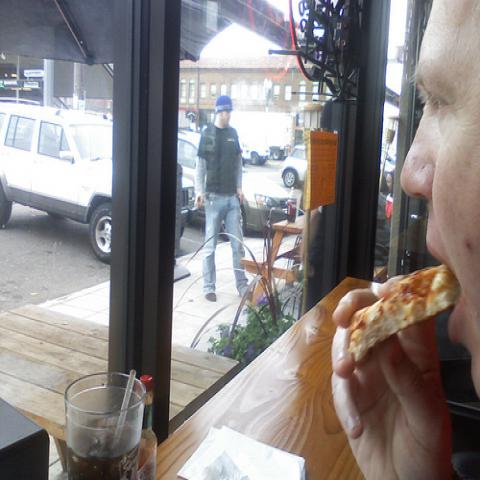car: (242, 172, 290, 237), (177, 130, 202, 193), (280, 144, 307, 188), (240, 142, 270, 164)
truck: (0, 100, 197, 264), (227, 111, 296, 160)
